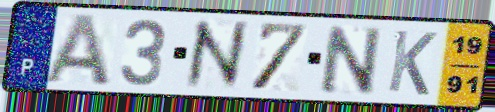3: (118, 16, 168, 87)
7: (252, 21, 309, 93)
A: (39, 12, 114, 88)
K: (385, 27, 440, 98)
N: (183, 18, 250, 91), (318, 23, 384, 96)
